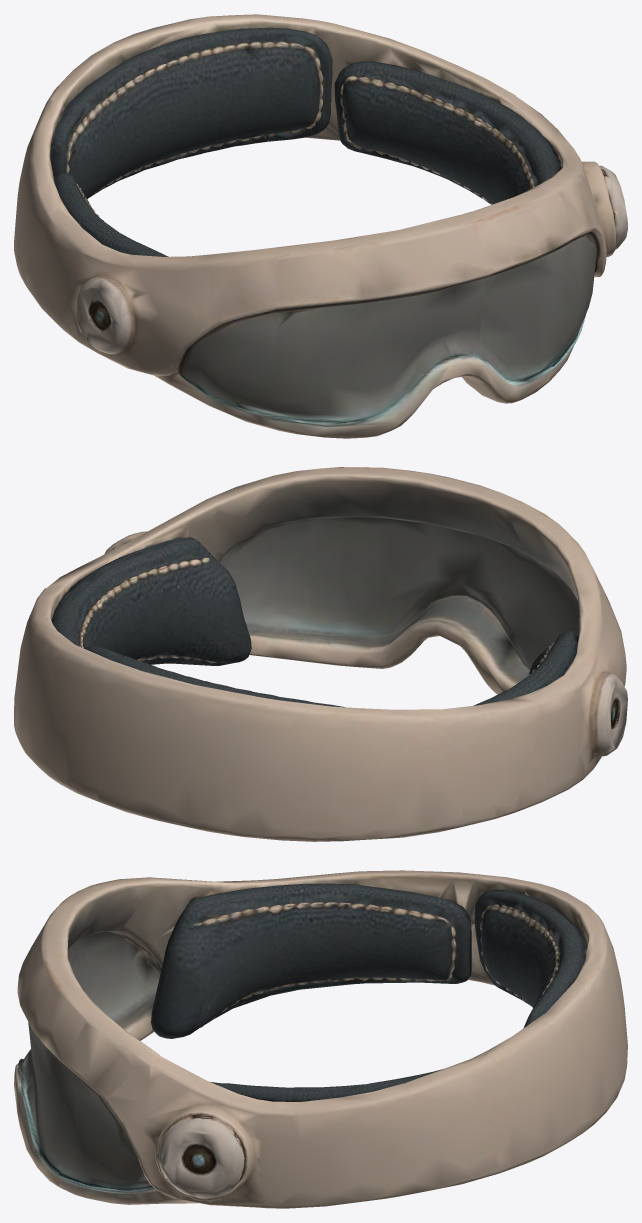
File: headset.low.glb
3 renders of one model, top to bottom at view 1: azimuth 30°, elevation 25°; view 2: azimuth 150°, elevation 25°; view 3: azimuth 270°, elevation 25°, orthographic. The views are drawn at different scales.
Visible parts, largest first — view 1: tripo_node_df2202d5-7eec-4927-8cea-a10c34fa3301; view 2: tripo_node_df2202d5-7eec-4927-8cea-a10c34fa3301; view 3: tripo_node_df2202d5-7eec-4927-8cea-a10c34fa3301.
Part boxes in pixels (<box>): tripo_node_df2202d5-7eec-4927-8cea-a10c34fa3301: <box>14,14,627,438</box>; tripo_node_df2202d5-7eec-4927-8cea-a10c34fa3301: <box>14,467,627,841</box>; tripo_node_df2202d5-7eec-4927-8cea-a10c34fa3301: <box>14,870,627,1208</box>.
Bounding box in the file's own units: 0.2 × 0.0719 × 0.2039.
Materials: 1 (1 with a texture image).
